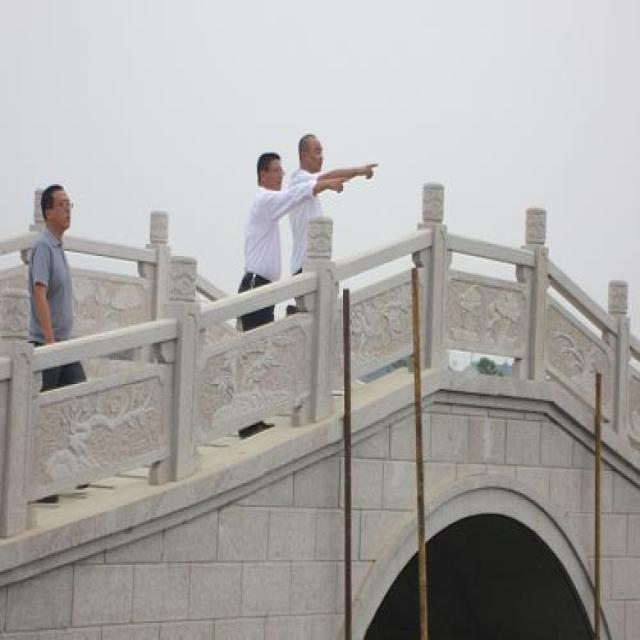no-helmet: (296, 126, 332, 188), (36, 179, 75, 236), (253, 145, 288, 200)
